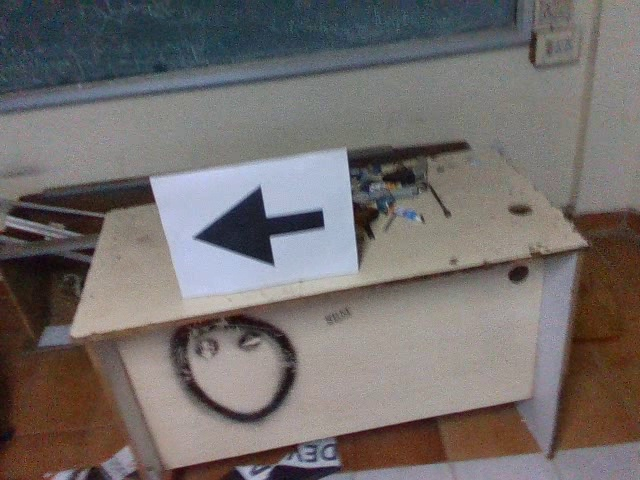Left: (187, 182, 327, 270)
